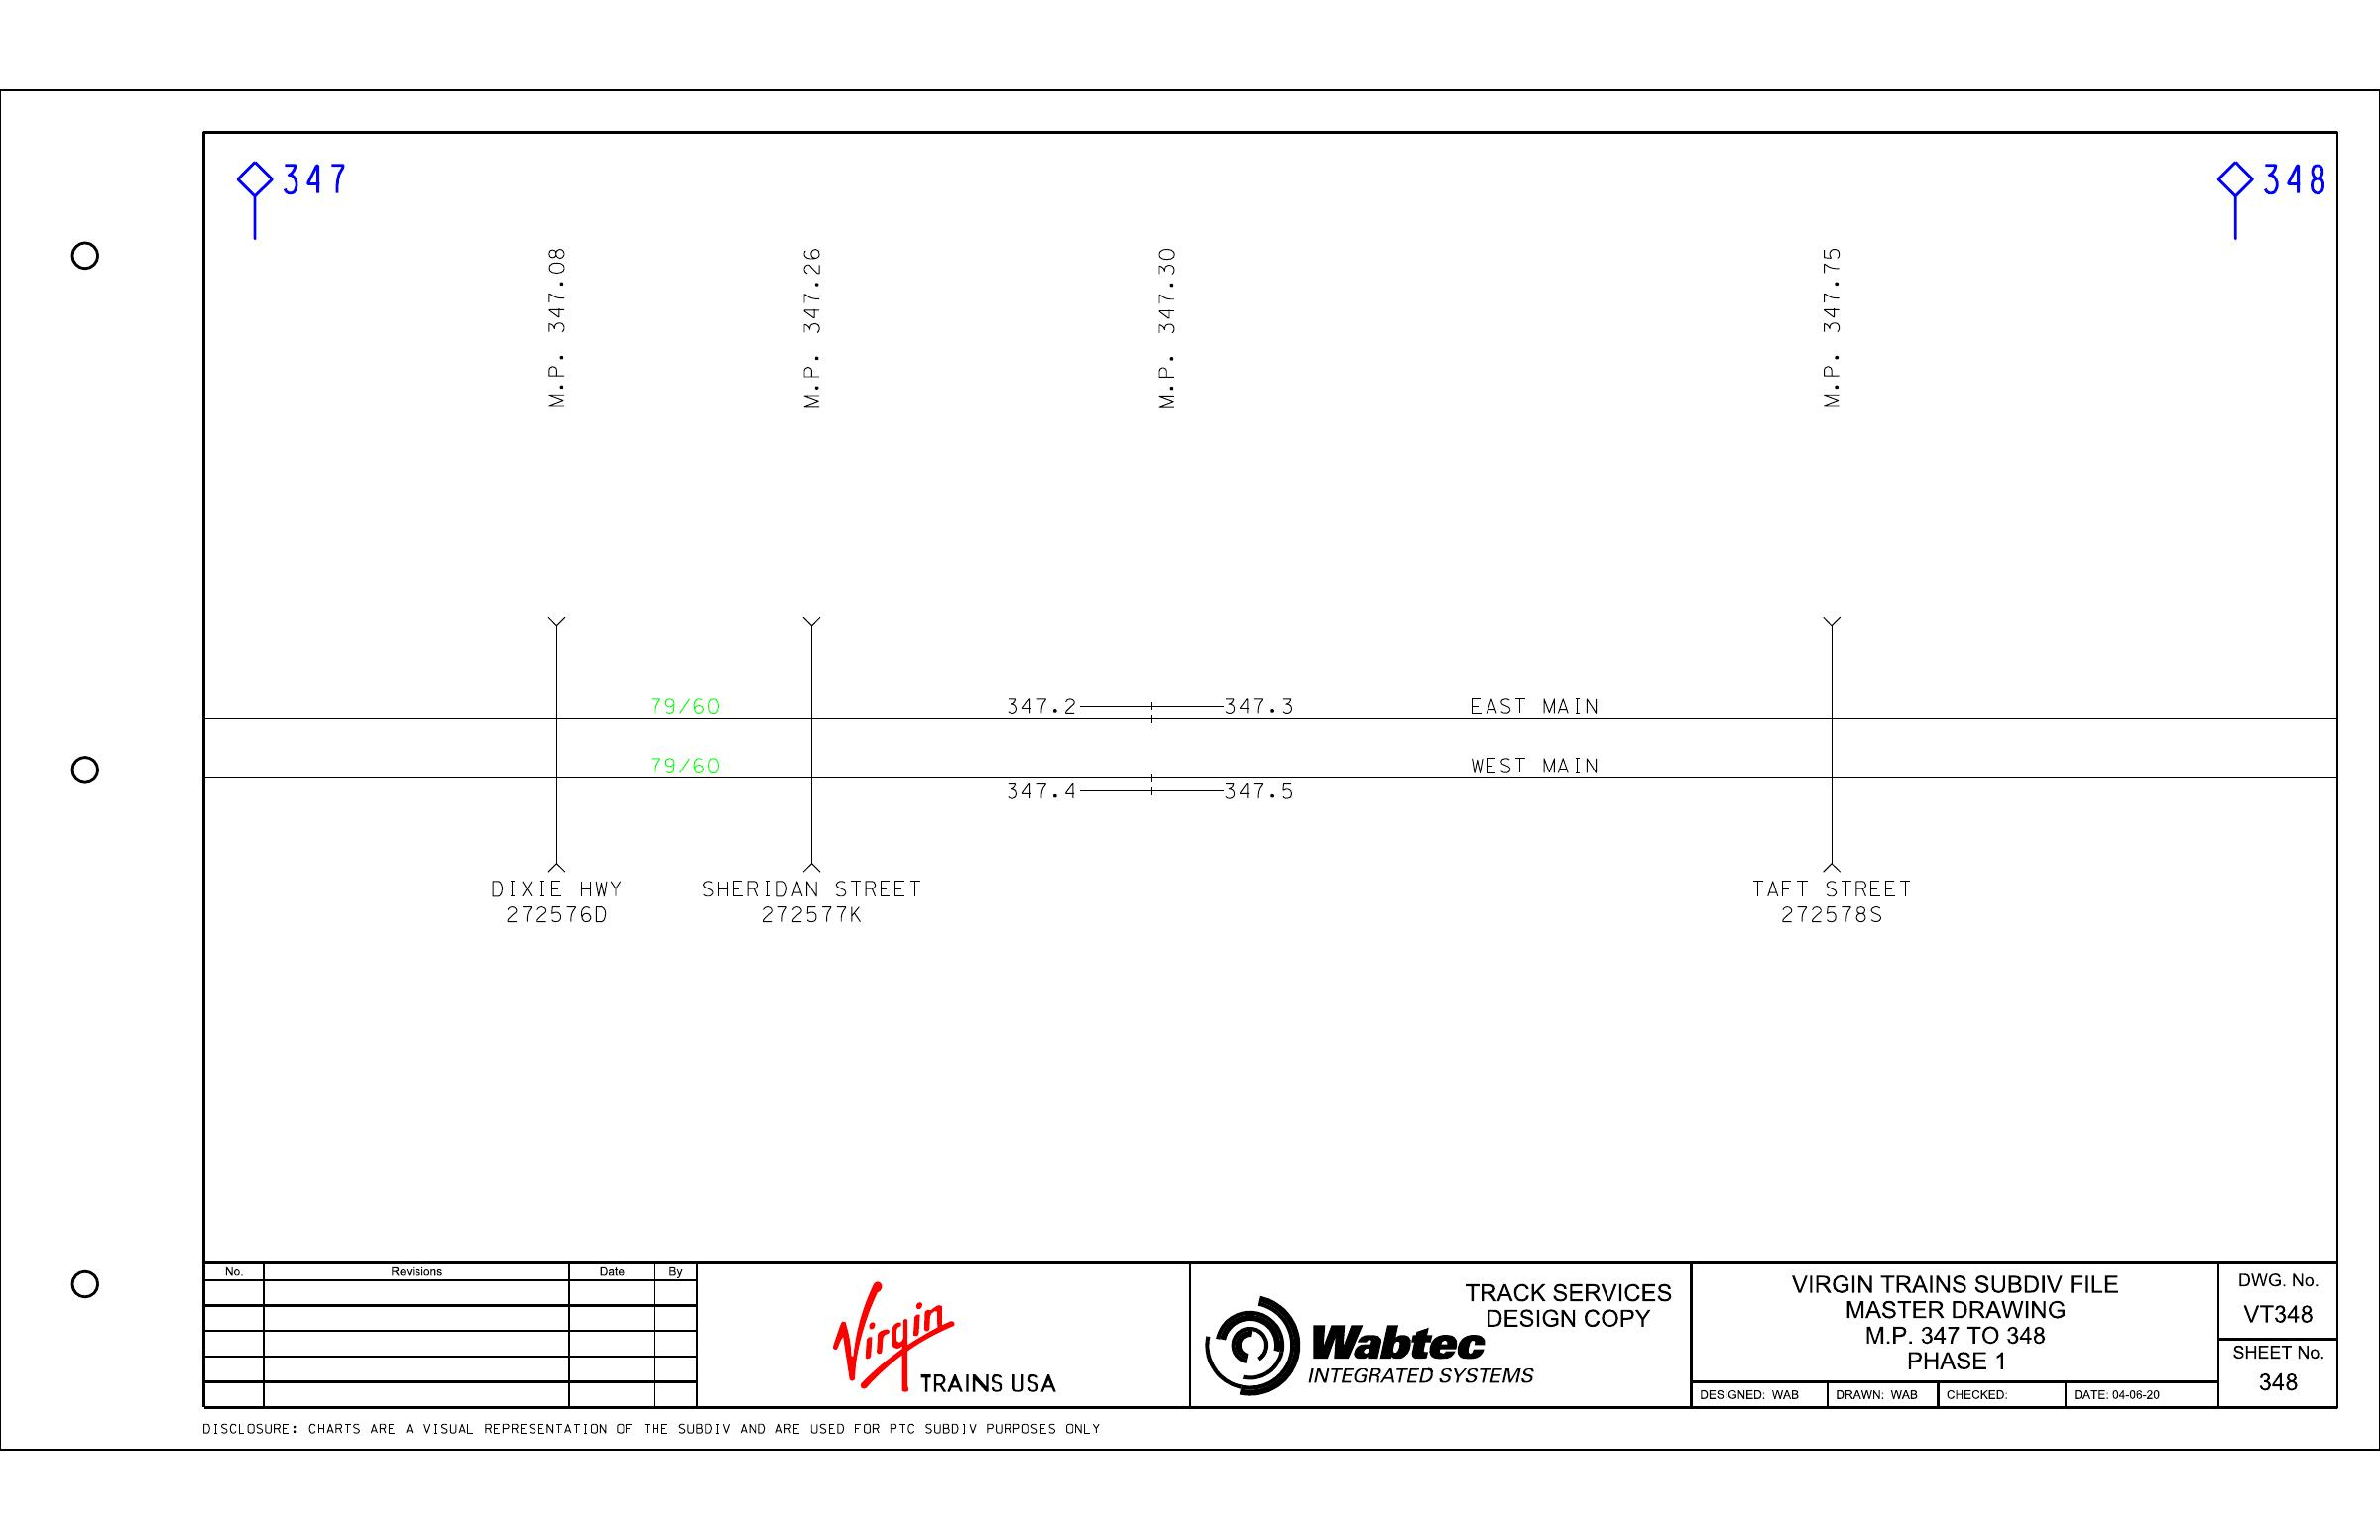crossing: (533, 597, 585, 886), (1804, 586, 1853, 883), (786, 593, 833, 890)
crossinglabel: (687, 862, 938, 949), (1742, 860, 1941, 949), (467, 864, 647, 936)
milepost: (1808, 208, 1856, 444), (1140, 217, 1192, 434), (794, 225, 834, 446), (538, 222, 576, 432)
signal: (1143, 673, 1310, 741), (1143, 765, 1324, 820), (997, 763, 1161, 824), (994, 678, 1161, 735)
